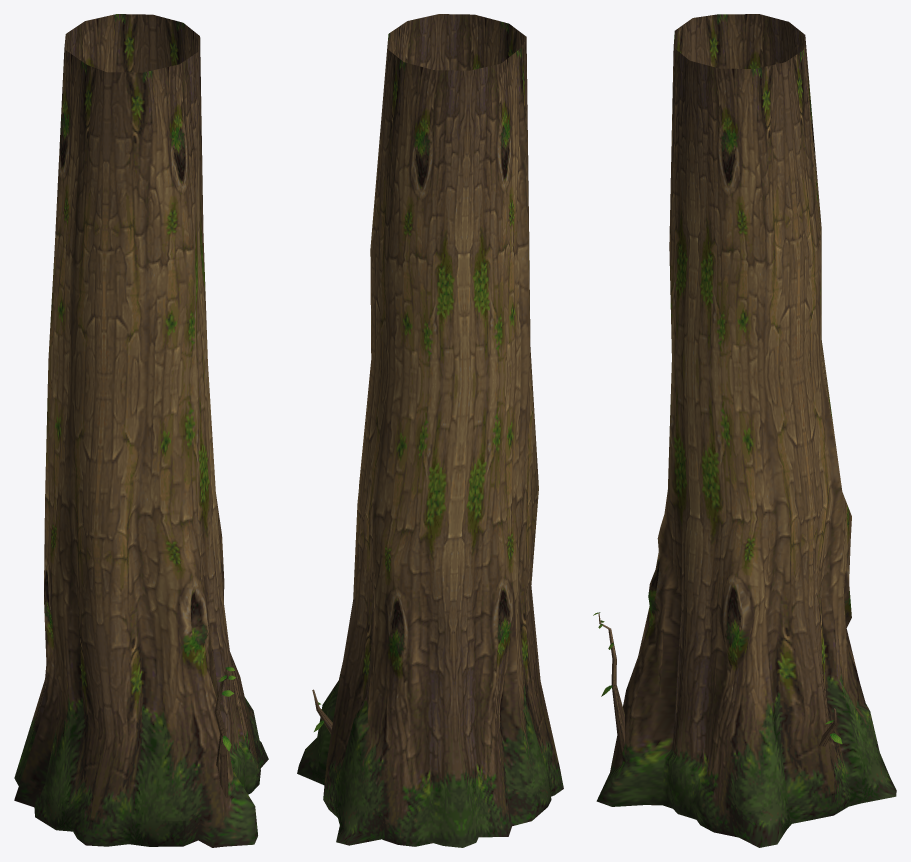
File: shrine_plant007_01.FBX
3 views of the same model, side by side, from view 1: azimuth 30°, elevation 25°; view 2: azimuth 150°, elevation 25°; view 3: azimuth 270°, elevation 25° (orthographic). The views are drawn at different scales.
Parts seen in each view (by area): view 1: shrine_plant007_01; view 2: shrine_plant007_01; view 3: shrine_plant007_01.
Boxes of the visible parts, left/top/right/bottom form: shrine_plant007_01: left=14, top=14, right=268, bottom=847; shrine_plant007_01: left=297, top=14, right=563, bottom=847; shrine_plant007_01: left=593, top=14, right=896, bottom=847.
Bounding box in the file's own units: 342 × 1048 × 392.
1 material, 1 textured.
